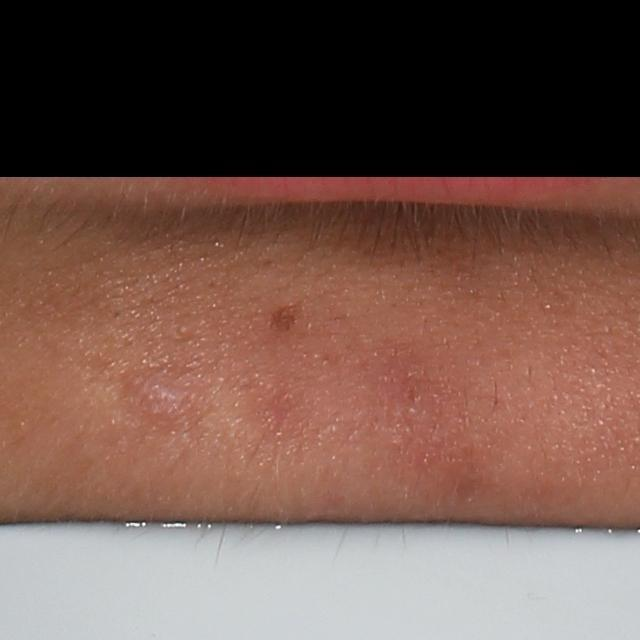nevus: (265, 302, 299, 334)
papule: (126, 372, 185, 429)
